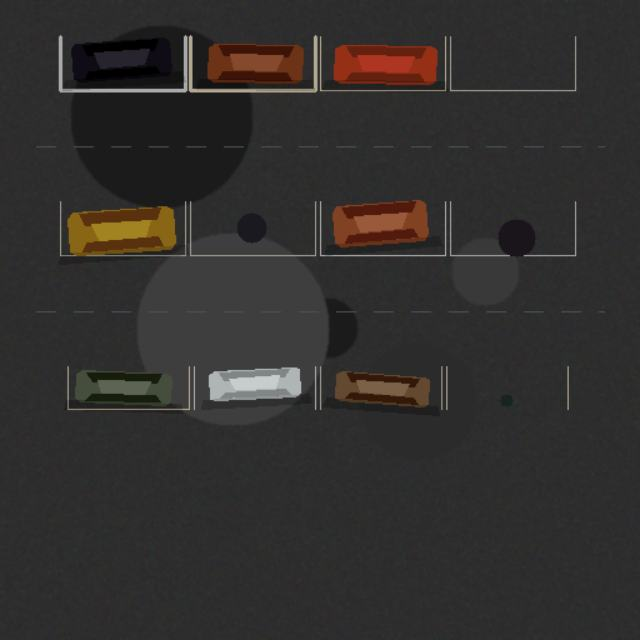space-empty: (450, 36, 575, 90), (190, 201, 315, 255), (450, 201, 575, 255), (446, 366, 567, 409)
space-occupied: (60, 36, 185, 90), (190, 36, 315, 90), (320, 36, 445, 90), (60, 201, 185, 255), (320, 201, 445, 255), (67, 366, 189, 409), (194, 366, 315, 409), (320, 366, 441, 409)
